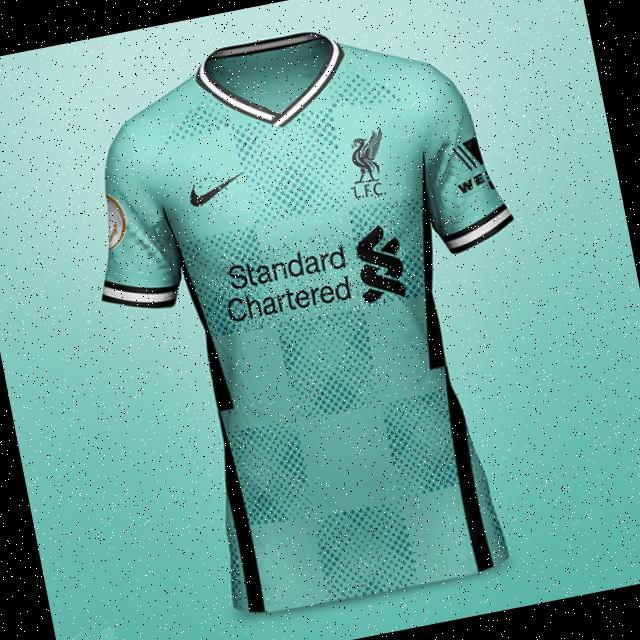Nike: (187, 170, 249, 207)
Standard Chartered: (216, 222, 411, 335)
